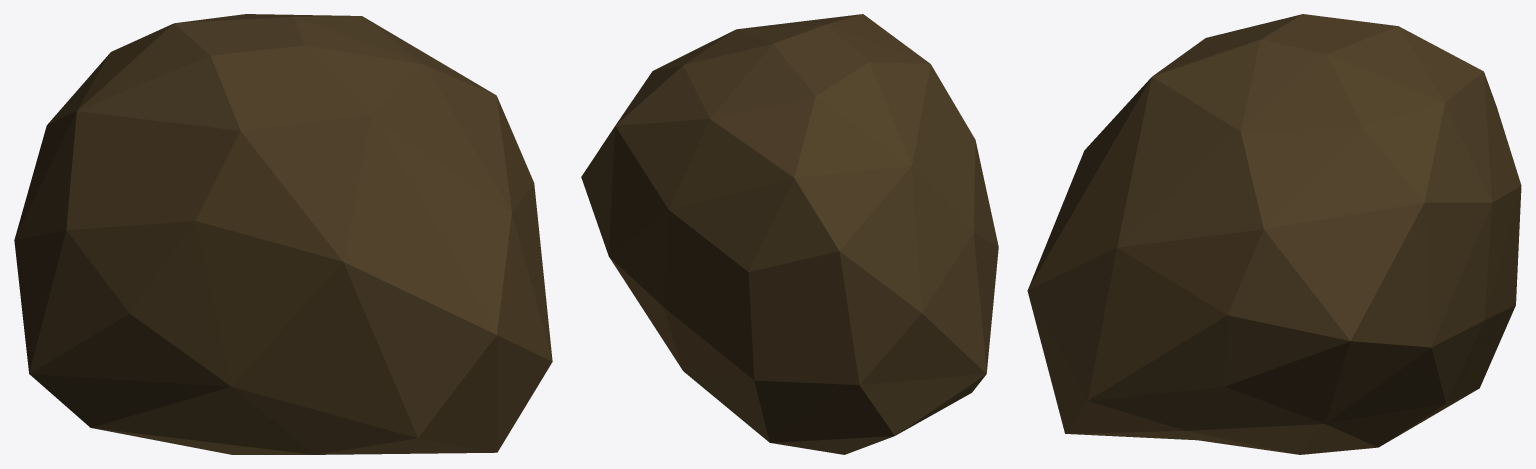
The model's file is Rock.fbx.
3 renders of one model, left to right at view 1: azimuth 30°, elevation 25°; view 2: azimuth 150°, elevation 25°; view 3: azimuth 270°, elevation 25°, orthographic. The views are drawn at different scales.
Parts seen in each view (by area): view 1: Sphere; view 2: Sphere; view 3: Sphere.
Boxes of the visible parts, x1=… form: Sphere: x1=14, y1=14, x2=552, y2=454; Sphere: x1=581, y1=14, x2=998, y2=454; Sphere: x1=1027, y1=14, x2=1521, y2=454.
Size of the model in its own units: 256 by 219 by 244.
